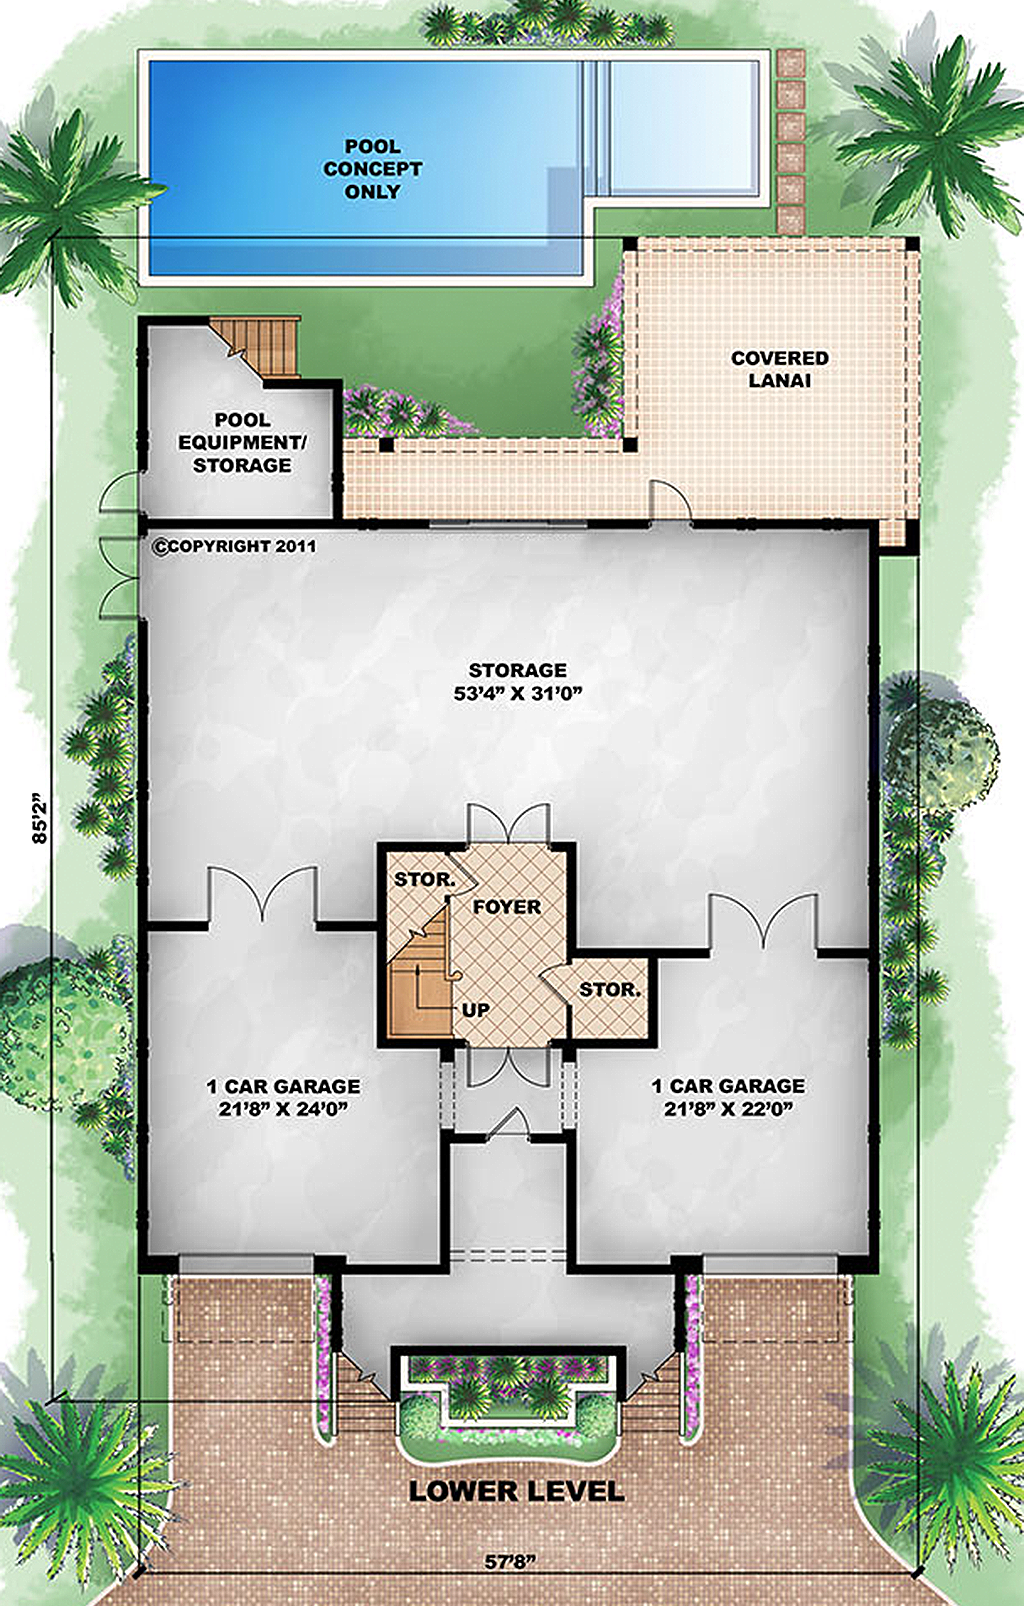door: (705, 891, 826, 962), (199, 863, 323, 931), (467, 1039, 555, 1092), (463, 799, 555, 850), (92, 530, 138, 623), (640, 475, 706, 521)
stairs: (209, 313, 301, 389)
